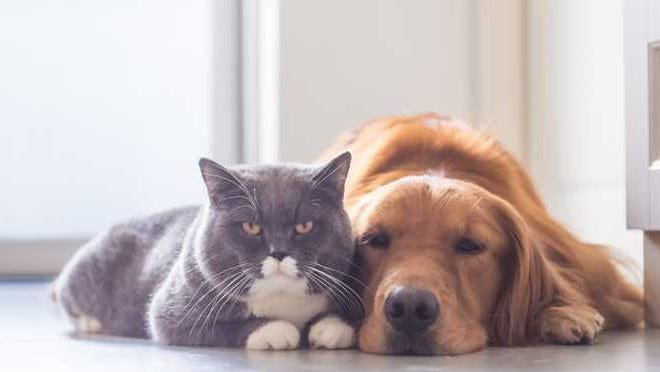cat: (65, 148, 363, 358)
dog: (312, 115, 612, 353)
